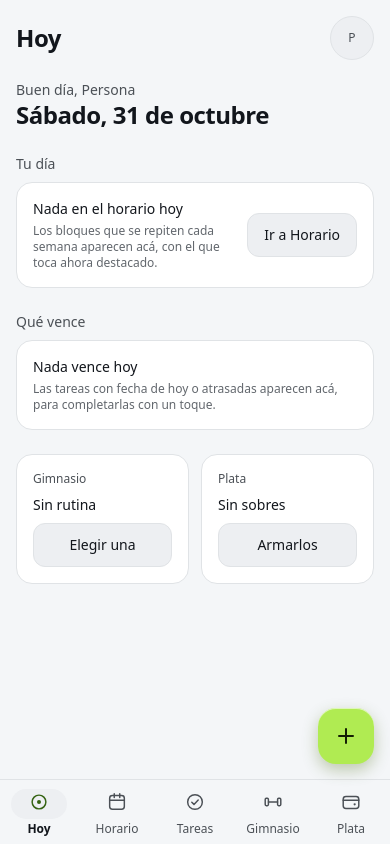
Test: esqueleto de la aplicación › cada pestaña lleva a su pantalla
The width and height of the screenshot is (390, 844).
Click the link "Plata": [351, 814] box [337,791,365,837]
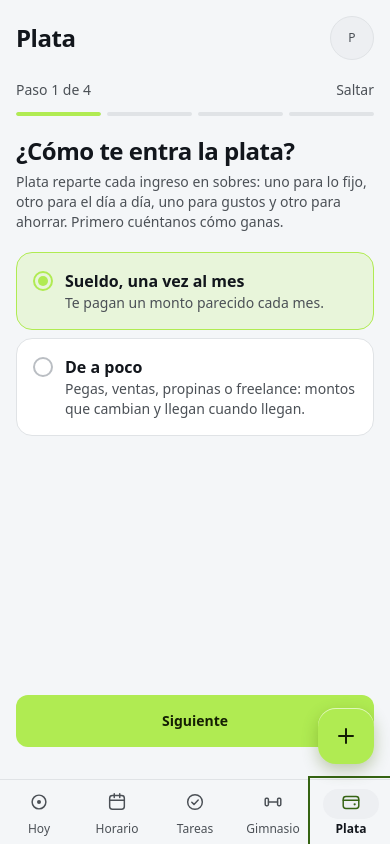
Result: the heading "¿Cómo te entra la plata?" is shown at [16,134,294,167]
Click the link "Gimnasio": [273, 814] box [246,791,300,837]
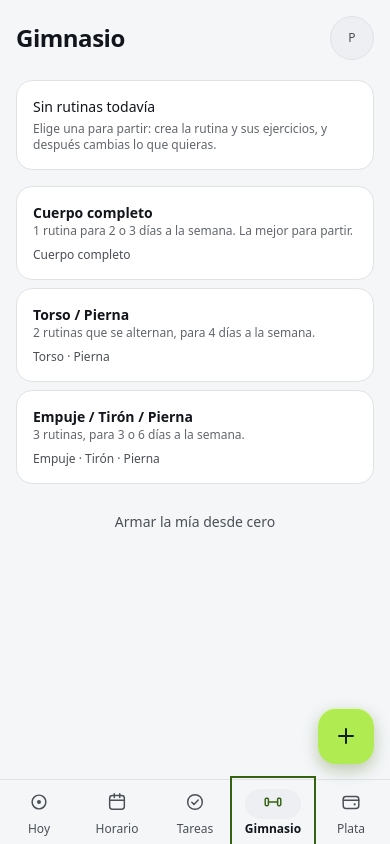
Result: the text "Sin rutinas todavía" is shown at [33,97,155,116]
